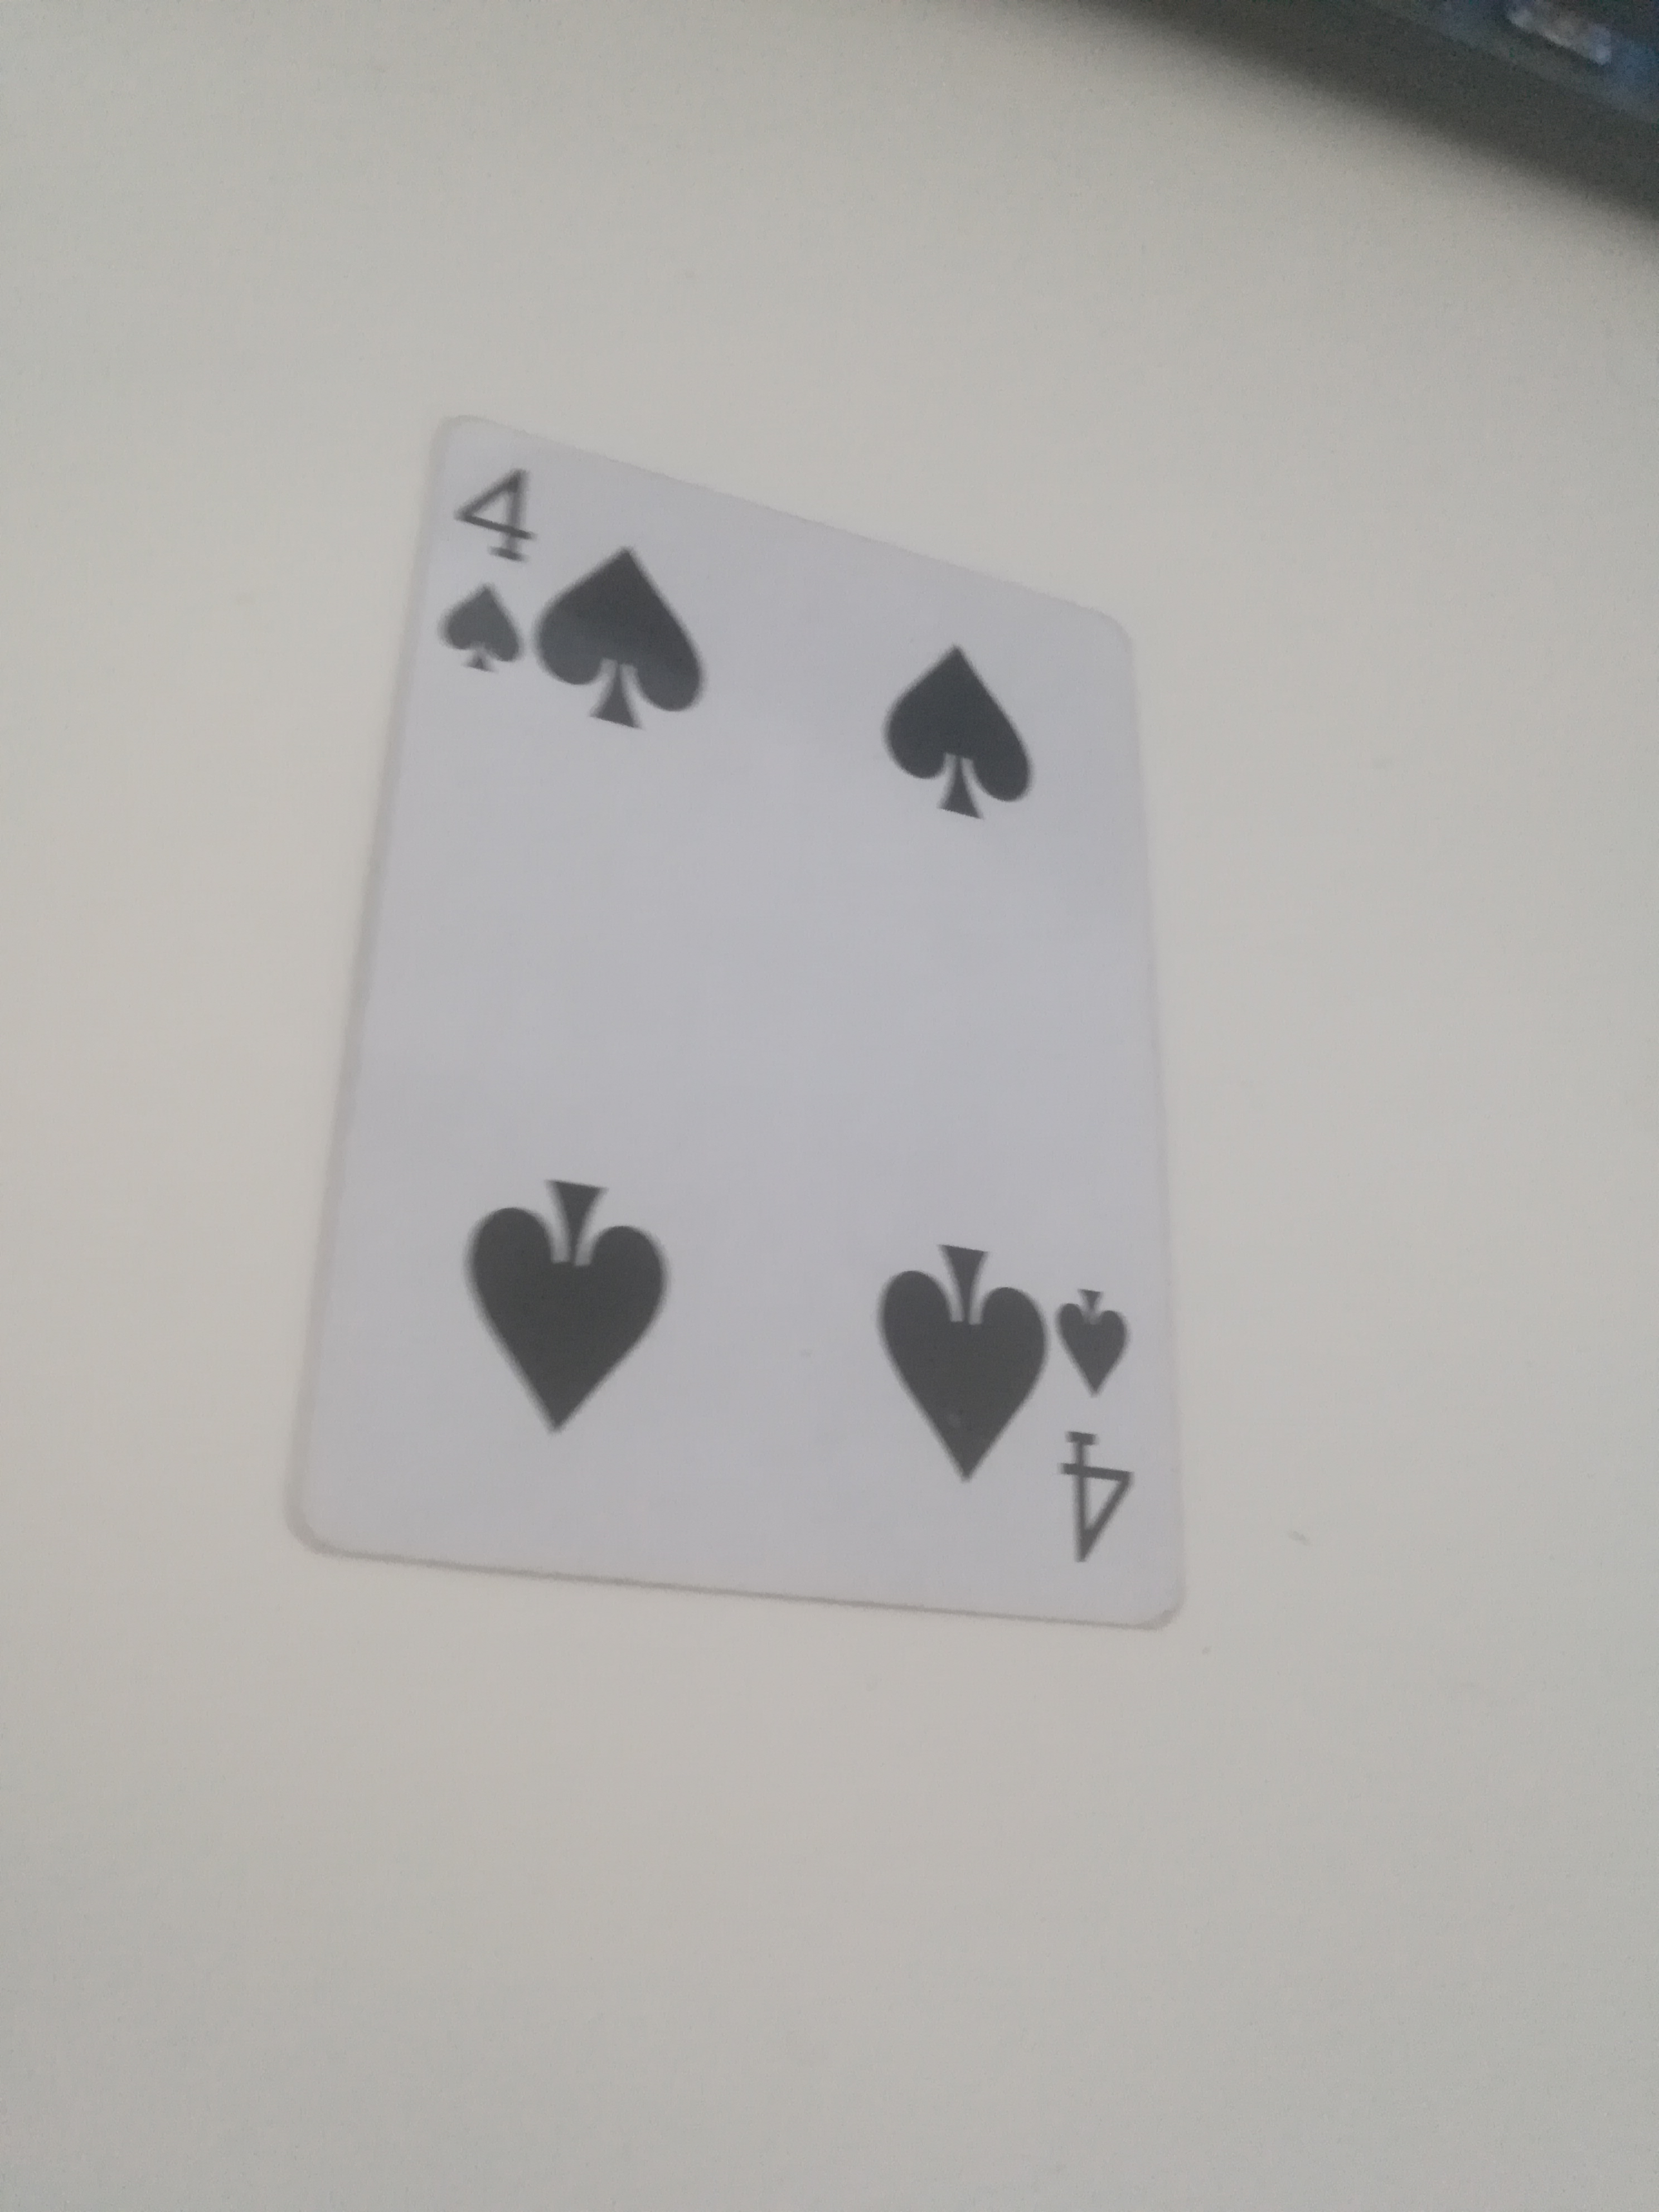4S: (300, 392, 1192, 1648)
